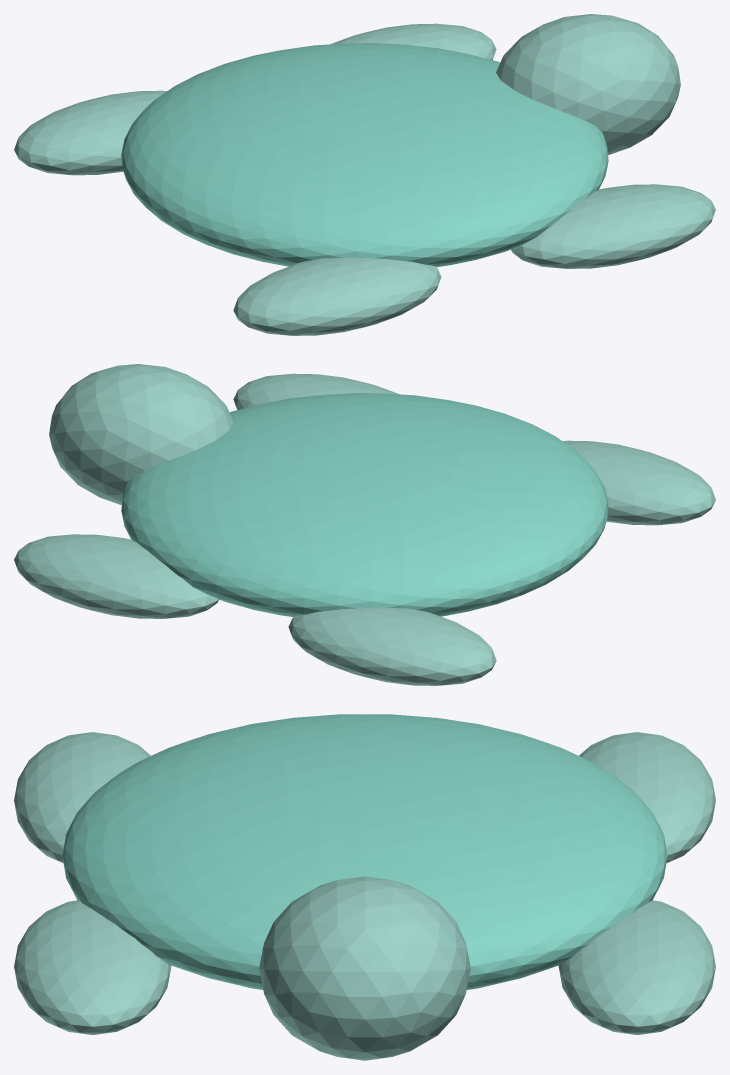
The picture shows the model from 3 angles, top to bottom: view 1: azimuth 30°, elevation 25°; view 2: azimuth 150°, elevation 25°; view 3: azimuth 270°, elevation 25°; orthographic projection. The views are drawn at different scales.
Parts seen in each view (by area): view 1: turtle_00, turtle_01, turtle_04, turtle_05, turtle_02, turtle_03; view 2: turtle_00, turtle_01, turtle_02, turtle_03, turtle_04, turtle_05; view 3: turtle_00, turtle_01, turtle_03, turtle_05, turtle_02, turtle_04.
Boxes of the visible parts, x1,y1,x2,y2 form: turtle_00: (121,43,608,266); turtle_01: (496,14,680,154); turtle_04: (233,257,441,335); turtle_05: (511,184,715,268); turtle_02: (14,90,166,175); turtle_03: (330,23,496,59); turtle_00: (121,393,608,616); turtle_01: (49,364,233,504); turtle_02: (288,607,496,685); turtle_03: (14,534,218,618); turtle_04: (563,440,715,525); turtle_05: (233,373,399,409); turtle_00: (62,714,667,989); turtle_01: (259,876,470,1060); turtle_03: (558,900,715,1034); turtle_05: (14,900,171,1034); turtle_02: (579,732,715,863); turtle_04: (14,732,150,863).
Bounding box in the file's own units: 2.57 × 0.59 × 2.32.
